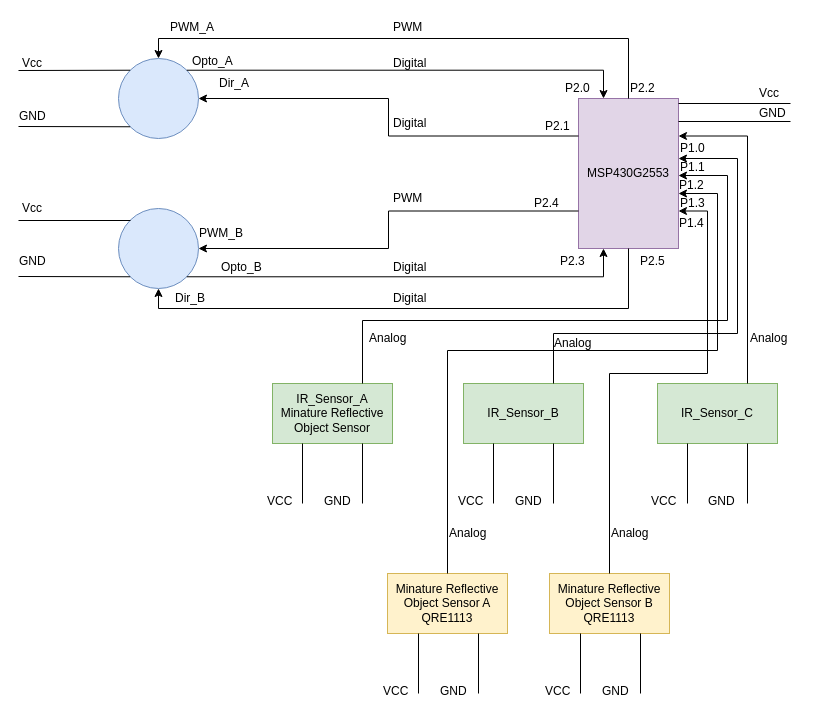
This 815x718 diagram has some shape labels left out. The shapes that lost their labels are listed below. From the top down, each one's box as (x1, y1, x2, y2) in pixels, then its label:
(118, 58, 198, 138): Motor_A
(118, 208, 198, 288): Motor_B
